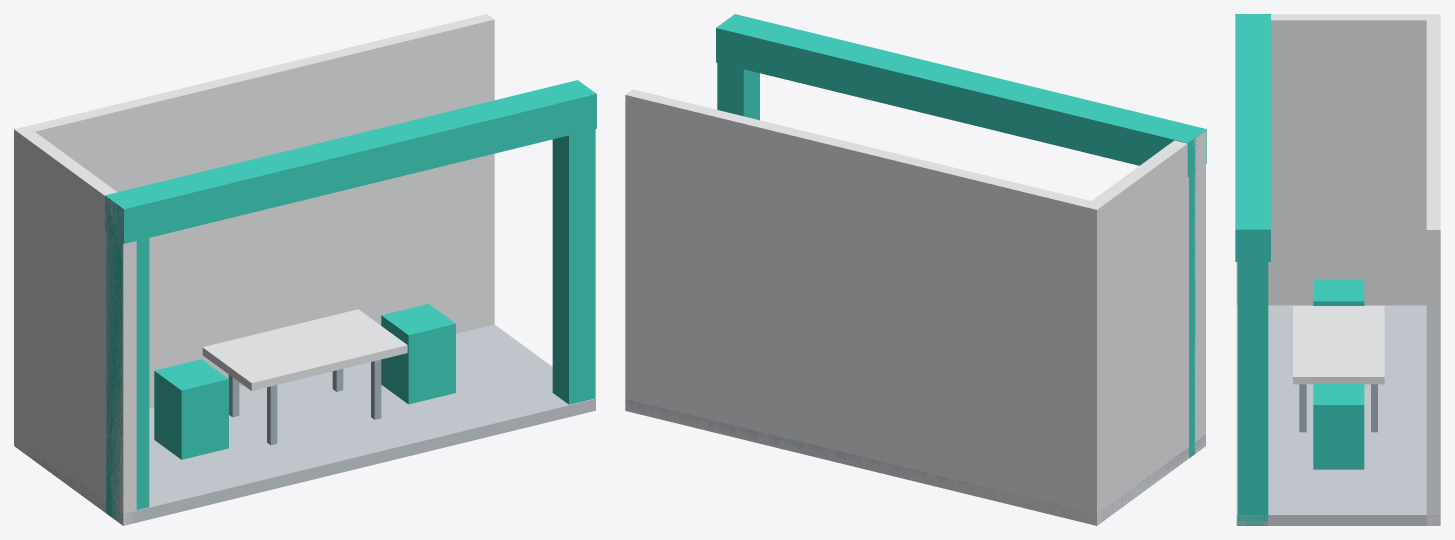
The picture shows the model from 3 angles, left to right: view 1: azimuth 30°, elevation 25°; view 2: azimuth 150°, elevation 25°; view 3: azimuth 270°, elevation 25°; orthographic projection. The views are drawn at different scales.
Visible parts, largest first — view 1: Exhibition Booth Concept; view 2: Exhibition Booth Concept; view 3: Exhibition Booth Concept.
Part boxes in pixels (<box>): Exhibition Booth Concept: <box>14,14,596,525</box>; Exhibition Booth Concept: <box>625,14,1206,525</box>; Exhibition Booth Concept: <box>1235,14,1440,525</box>.
Bounding box in the file's own units: 5 × 3.2 × 2.01.
